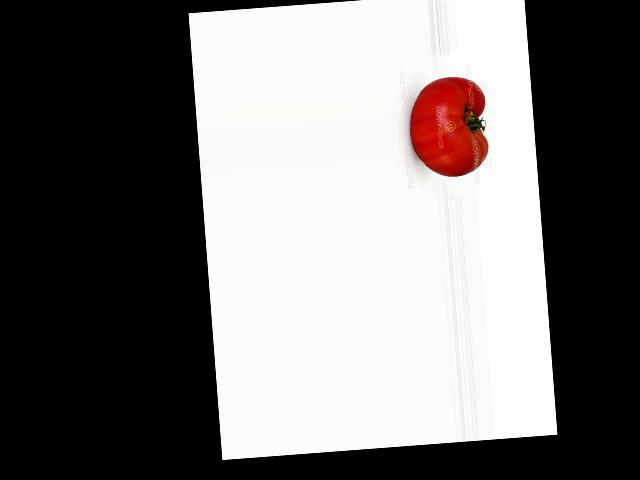tomato: (406, 75, 490, 180)
